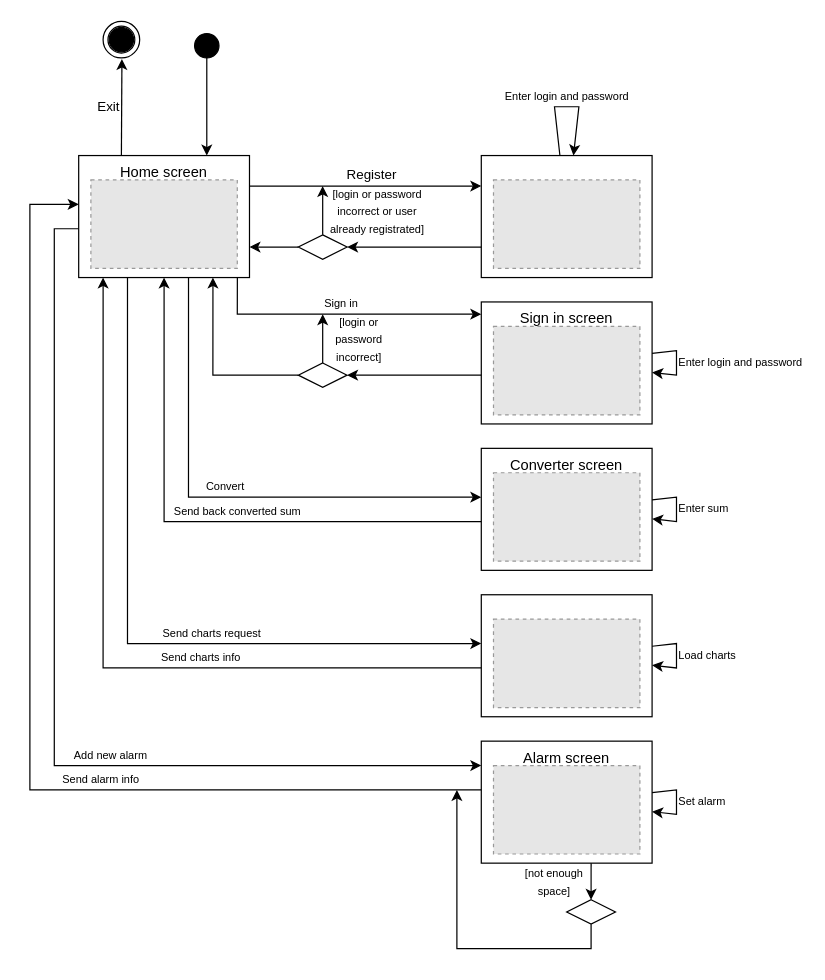
This 825x980 diagram has some shape labels left out. Grey dashed boxes stand in for pictures. The shapes that lost their labels are listed below. From the top down, each one's box as (x1, y1, x2, y2) in pixels, then its label:
(480, 154, 652, 278): Register screen
(480, 594, 652, 717): Charts screen
